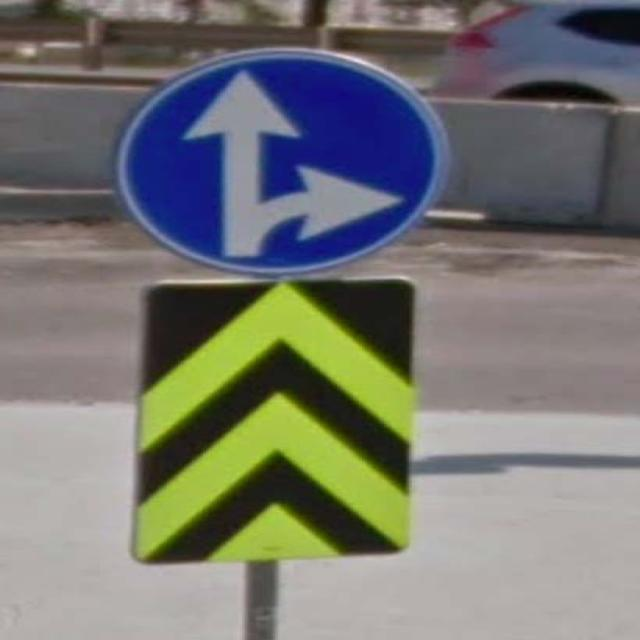ilerisag: (112, 47, 446, 273)
